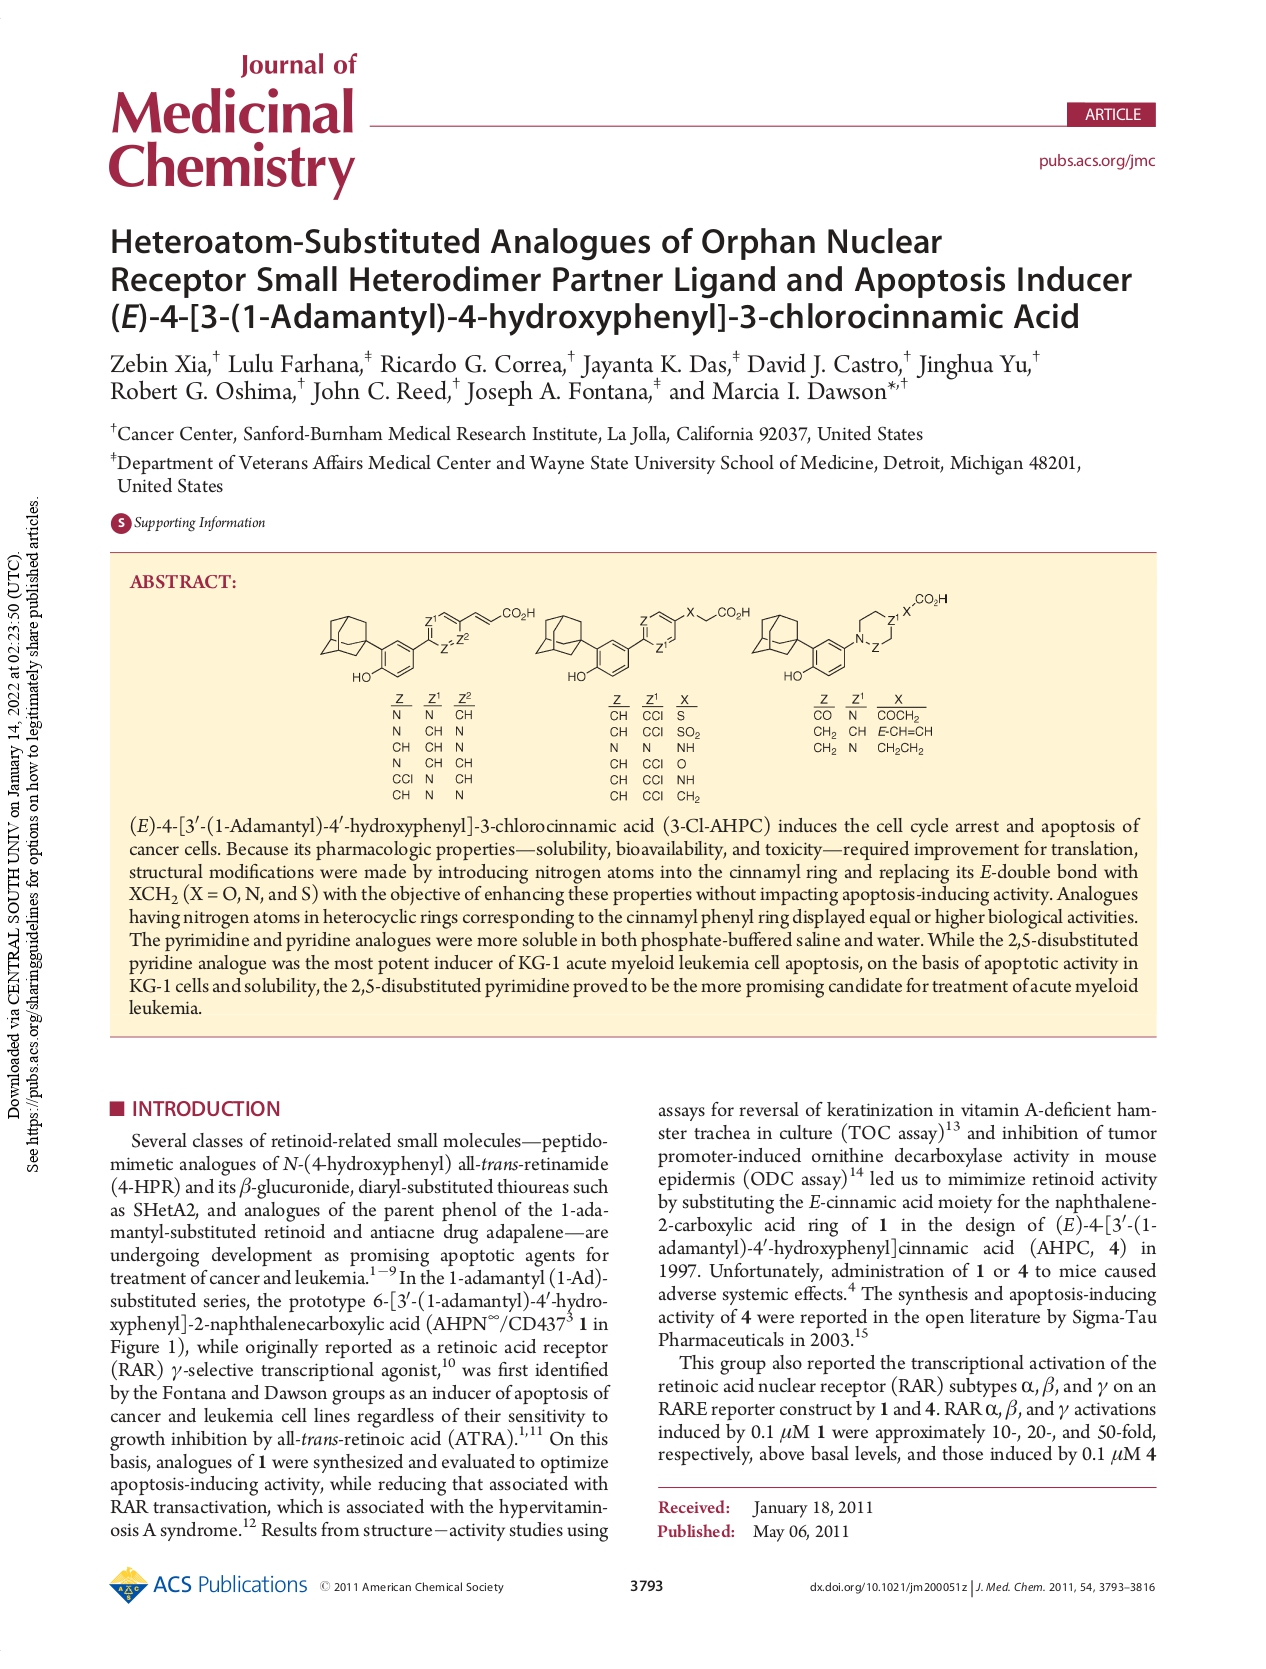exist_molecular: (751, 590, 951, 684), (316, 604, 537, 684), (535, 605, 751, 682)
